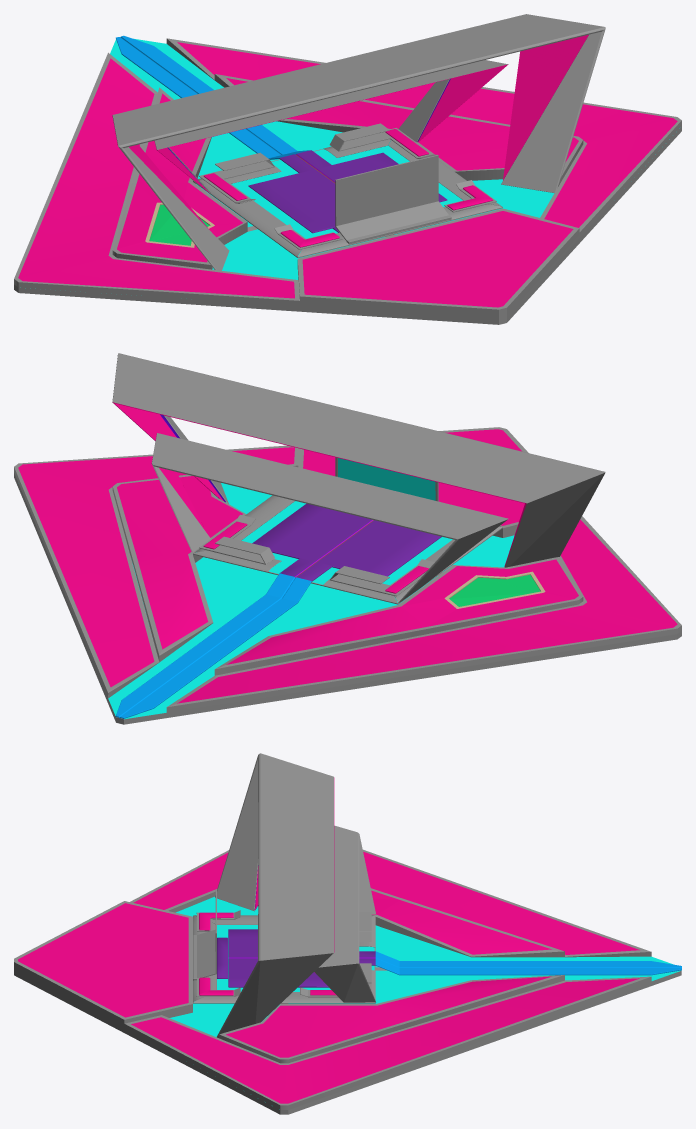
The model's file is Workroom_LocationUpdate_Skypad.FBX.
3 renders of one model, top to bottom at view 1: azimuth 30°, elevation 25°; view 2: azimuth 150°, elevation 25°; view 3: azimuth 270°, elevation 25°, orthographic. The views are drawn at different scales.
Parts seen in each view (by area): view 1: Workroom_Skypad_Lawn, Workroom_Skypad_Canopy_Large, Workroom_Skypad_UpperPlatform, Workroom_Skypad_LowerPlatform, Workroom_Skypad_Whiteboard, Workroom_Skypad_Canopy_Small, Workroom_Skypad_Shelf; view 2: Workroom_Skypad_Lawn, Workroom_Skypad_Canopy_Large, Workroom_Skypad_UpperPlatform, Workroom_Skypad_LowerPlatform, Workroom_Skypad_Canopy_Small, Workroom_Skypad_Shelf, Workroom_Skypad_Whiteboard; view 3: Workroom_Skypad_Lawn, Workroom_Skypad_Canopy_Large, Workroom_Skypad_LowerPlatform, Workroom_Skypad_UpperPlatform, Workroom_Skypad_Canopy_Small, Workroom_Skypad_Shelf, Workroom_Skypad_Whiteboard.
Boxes of the visible parts, left/top/right/bottom form: Workroom_Skypad_Lawn: left=14, top=38, right=681, bottom=319; Workroom_Skypad_Canopy_Large: left=112, top=14, right=605, bottom=270; Workroom_Skypad_UpperPlatform: left=116, top=35, right=502, bottom=257; Workroom_Skypad_LowerPlatform: left=14, top=38, right=681, bottom=324; Workroom_Skypad_Whiteboard: left=335, top=155, right=451, bottom=244; Workroom_Skypad_Canopy_Small: left=154, top=60, right=508, bottom=193; Workroom_Skypad_Shelf: left=199, top=123, right=496, bottom=249; Workroom_Skypad_Lawn: left=14, top=427, right=681, bottom=712; Workroom_Skypad_Canopy_Large: left=112, top=353, right=605, bottom=567; Workroom_Skypad_UpperPlatform: left=115, top=495, right=502, bottom=718; Workroom_Skypad_LowerPlatform: left=14, top=473, right=681, bottom=724; Workroom_Skypad_Canopy_Small: left=151, top=433, right=508, bottom=602; Workroom_Skypad_Shelf: left=199, top=514, right=434, bottom=596; Workroom_Skypad_Whiteboard: left=335, top=457, right=438, bottom=501; Workroom_Skypad_Lawn: left=14, top=849, right=651, bottom=1109; Workroom_Skypad_Canopy_Large: left=215, top=753, right=334, bottom=1037; Workroom_Skypad_LowerPlatform: left=14, top=896, right=681, bottom=1114; Workroom_Skypad_UpperPlatform: left=193, top=915, right=681, bottom=1003; Workroom_Skypad_Canopy_Small: left=314, top=825, right=375, bottom=1002; Workroom_Skypad_Shelf: left=196, top=910, right=371, bottom=997; Workroom_Skypad_Whiteboard: left=193, top=889, right=216, bottom=980.
Bounding box in the file's own units: 4200 × 811 × 4201.
